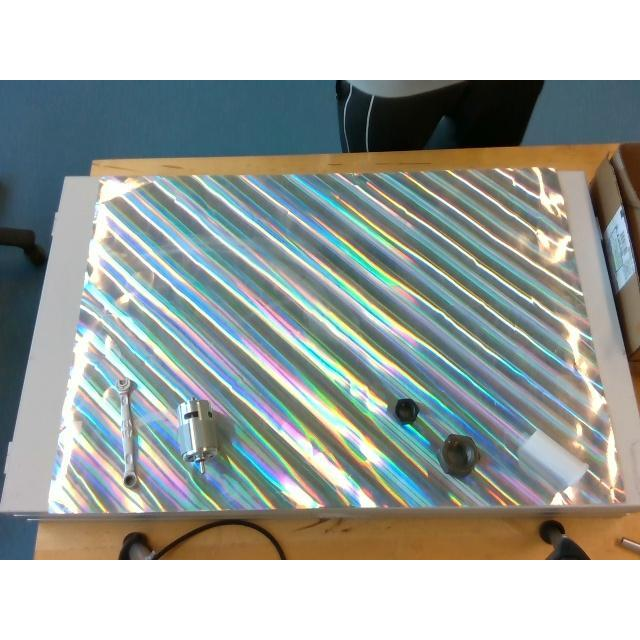M20: (392, 398, 420, 424)
M30: (440, 434, 478, 476)
Motor2: (177, 398, 217, 474)
Spacer: (518, 429, 586, 489)
Wrench: (118, 378, 138, 488)
